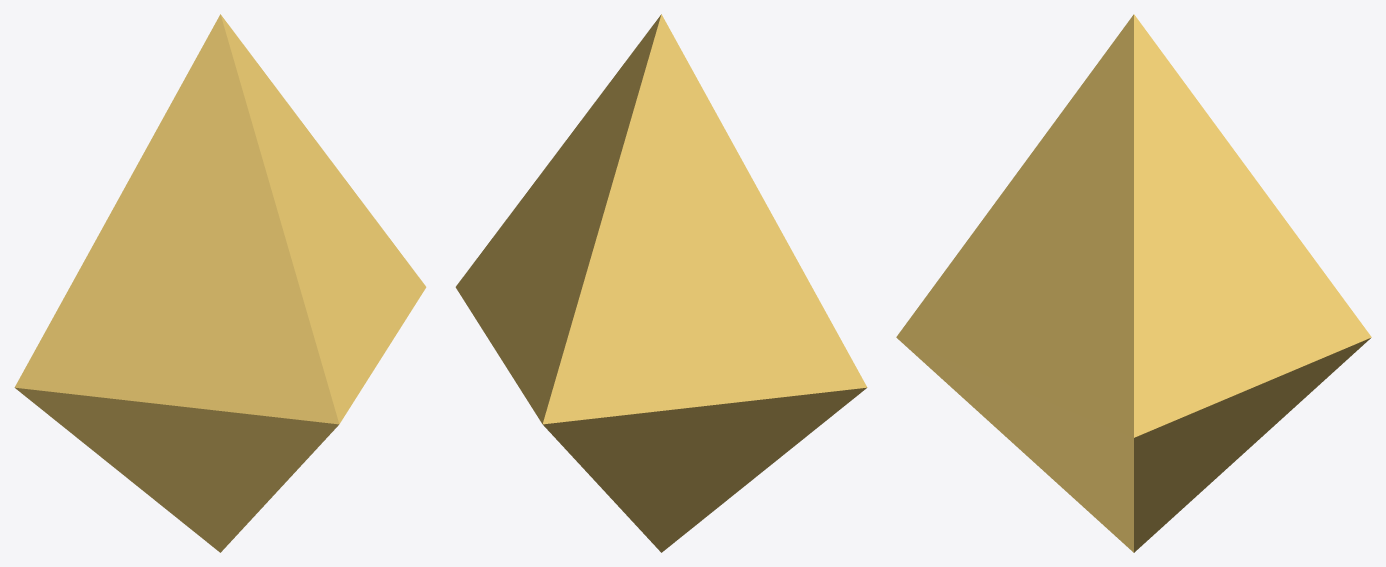
The model's file is PointLight.glb.
3 renders of one model, left to right at view 1: azimuth 30°, elevation 25°; view 2: azimuth 150°, elevation 25°; view 3: azimuth 270°, elevation 25°, orthographic.
Visible parts, largest first — view 1: PointLight; view 2: PointLight; view 3: PointLight.
Boxes of the visible parts, x1,y1,x2,y2 form: PointLight: [14, 14, 426, 552]; PointLight: [455, 14, 867, 552]; PointLight: [896, 14, 1371, 552].
Size of the model in its own units: 0.4 by 0.5 by 0.4.
Materials: 1 (1 with a texture image).
